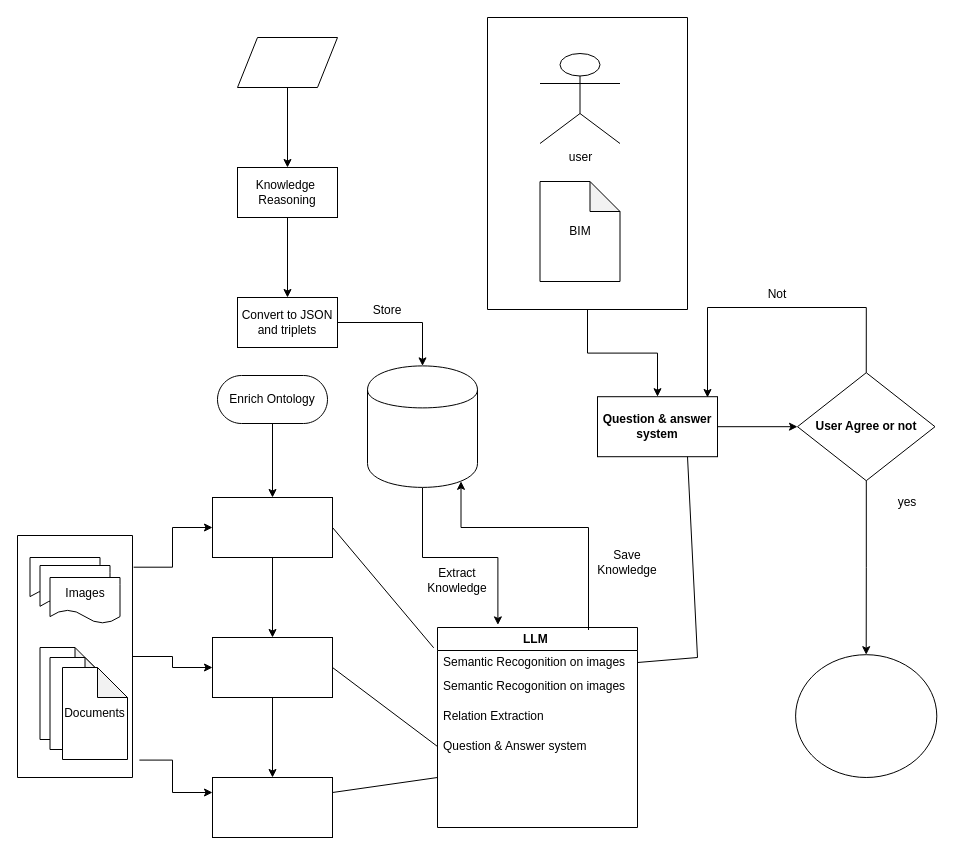
The diagram is 965 pixels wide and 855 high, and some of its shapes have lost their labels. Here are the shapes that lost their labels. From the top down, the centre of each, then its label:
At (x=287, y=62): "Ontology".
At (x=422, y=426): "Graph Database".
At (x=272, y=527): "Identify Entities".
At (x=272, y=667): "Extract Properties".
At (x=866, y=716): "Final Results: Risks, Related regulations, Cases, Measures etc.".
At (x=272, y=807): "Extract Relations".
